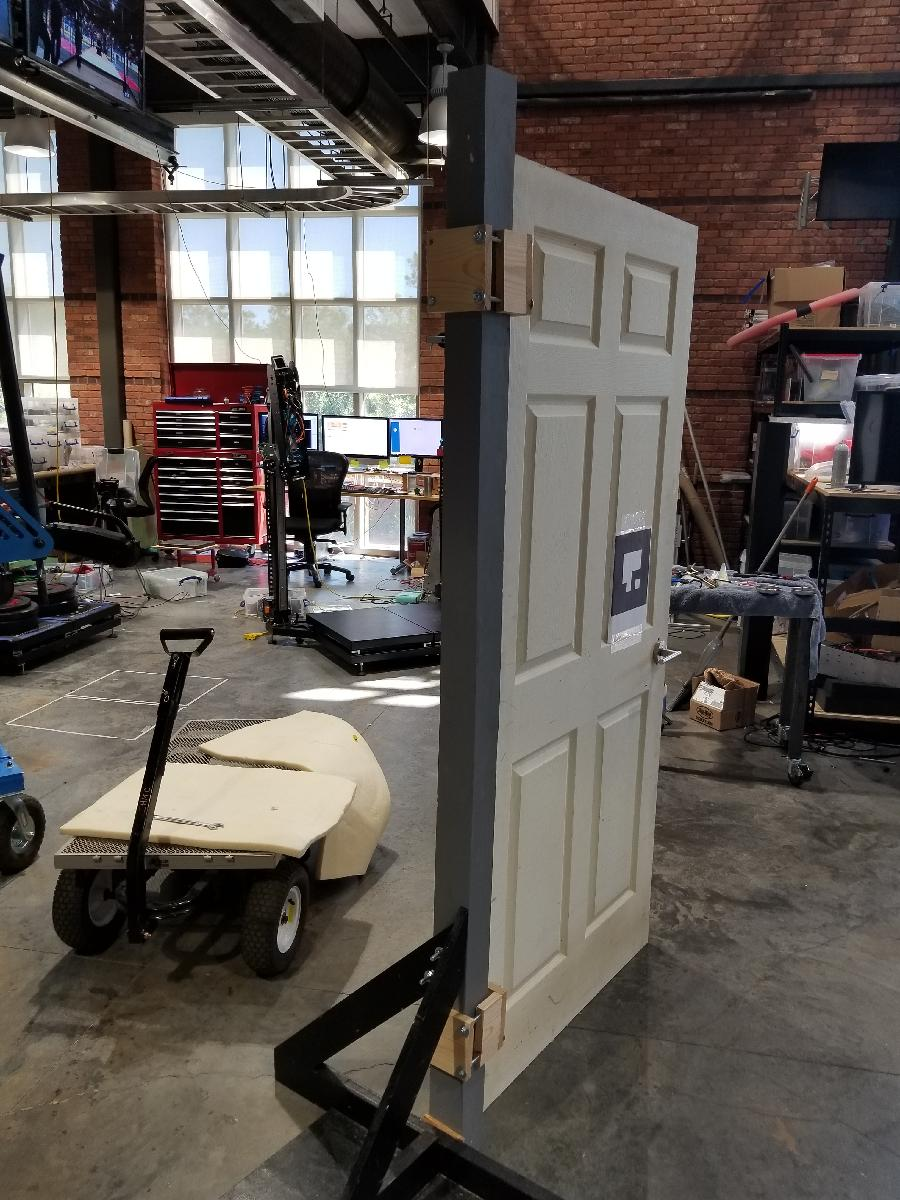door: (471, 151, 704, 1114)
doorHandle: (650, 641, 682, 676)
